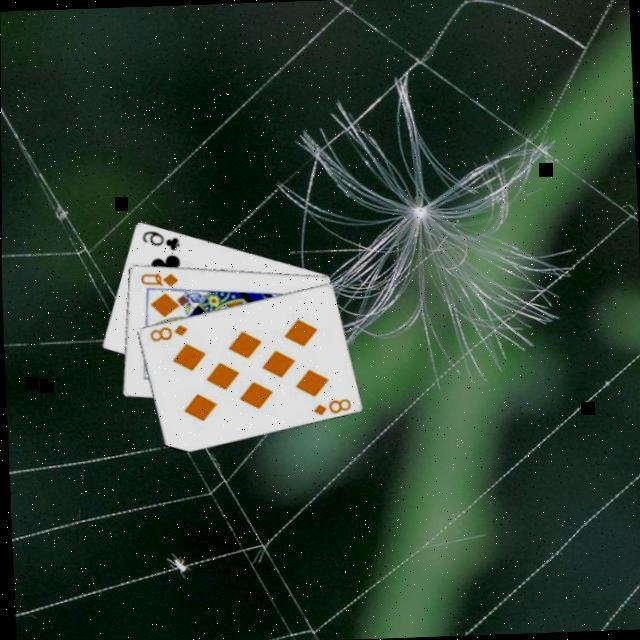6C: (136, 228, 182, 255)
8D: (144, 322, 189, 347), (307, 396, 352, 420)
QD: (136, 270, 179, 291)
